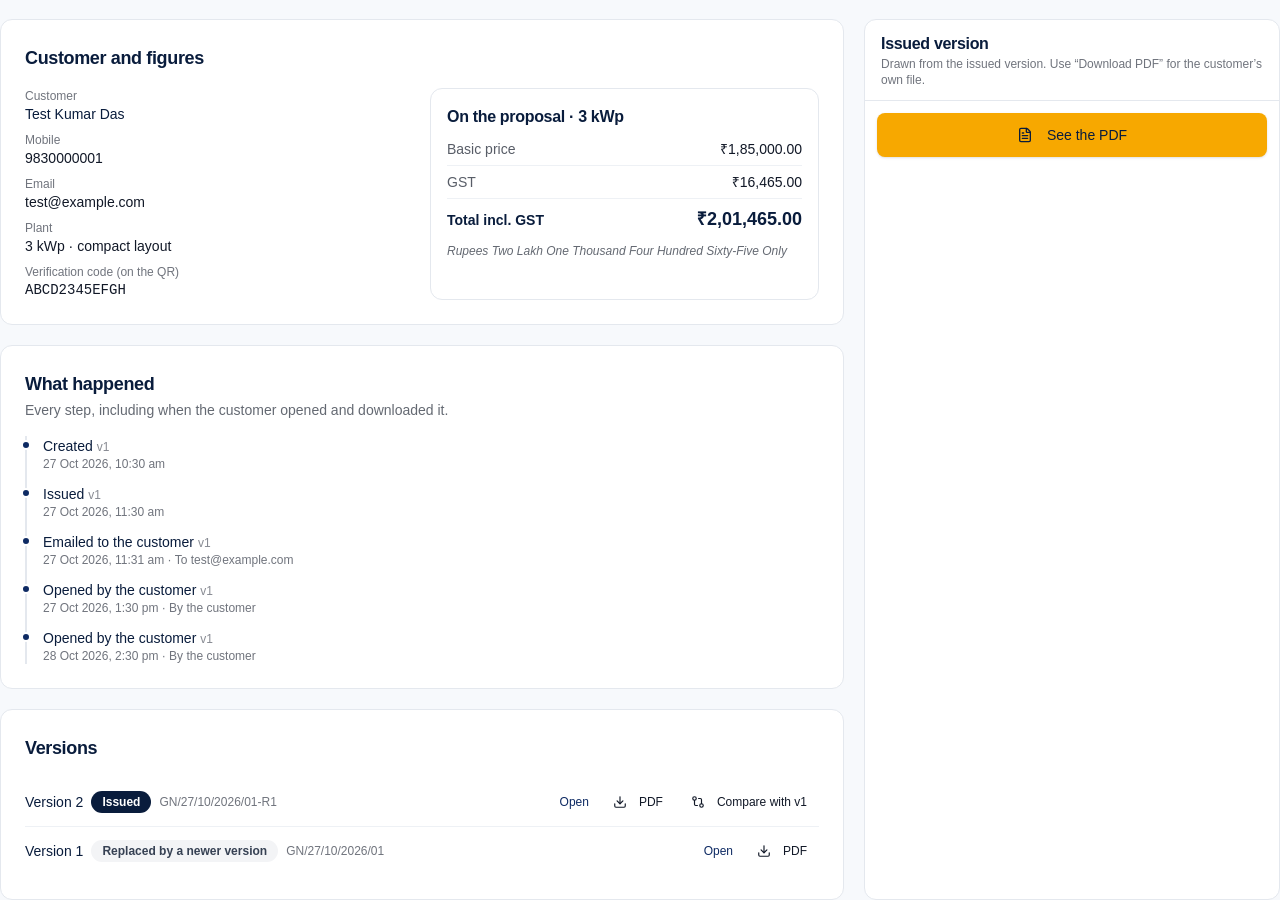
Test: the proposal page after issue › Versions: Compare shows the field diff
(page scrolled)
Step 1. Click the button with test id "compare-2" → [749, 802], box [679,786,819,818]
(page scrolled)
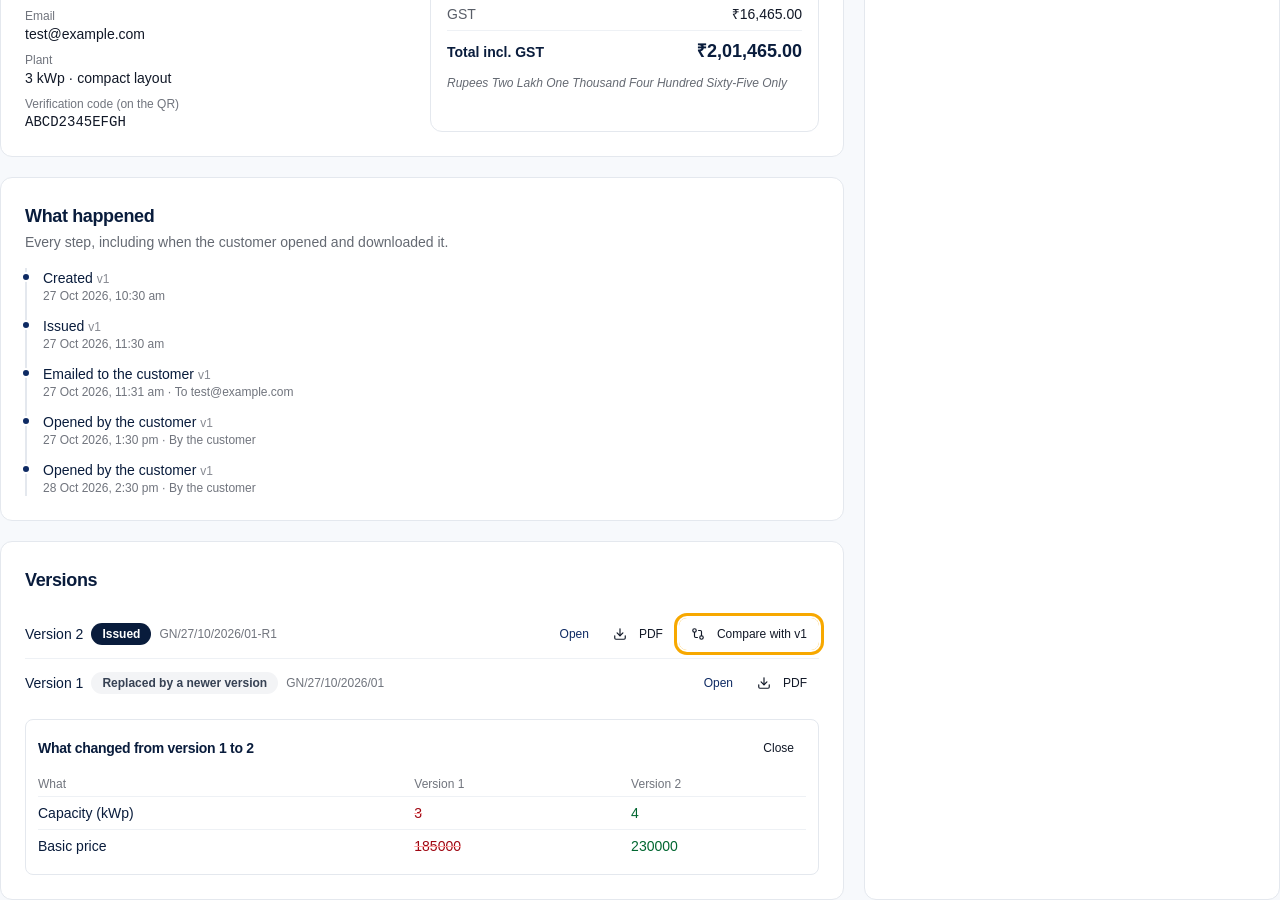
Expected: the element with test id "compare-view" shows "Capacity (kWp)", [38,805,134,821]
Expected: the element with test id "compare-view" shows "Basic price", [38,838,106,854]
Expected: the number of rows is 3, [38,772,806,796]; [38,796,806,830]; [38,830,806,862]
